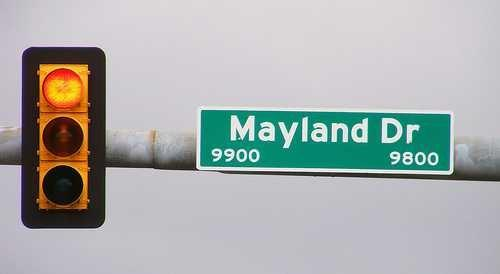red: (20, 39, 113, 236), (33, 60, 95, 114)
